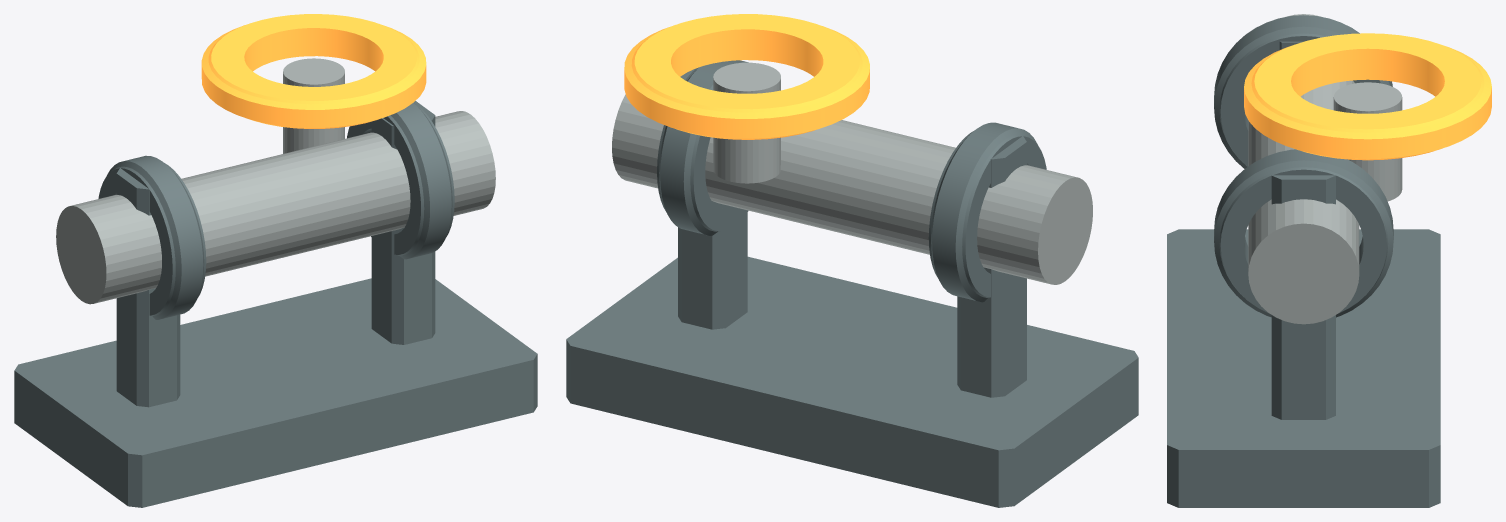
Rendered from refinery-dressing-valve-skid-lod0.glb.
The picture shows the model from 3 angles, left to right: view 1: azimuth 30°, elevation 25°; view 2: azimuth 150°, elevation 25°; view 3: azimuth 270°, elevation 25°; orthographic projection. The views are drawn at different scales.
Visible parts, largest first — view 1: valve-foot, valve-pipe, valve-handwheel, valve-pipe-collar--0.37, valve-support--0.38, valve-pipe-collar-0.37, valve-support-0.38, valve-handwheel-stem; view 2: valve-foot, valve-pipe, valve-handwheel, valve-pipe-collar--0.37, valve-support--0.38, valve-support-0.38, valve-pipe-collar-0.37, valve-handwheel-stem; view 3: valve-foot, valve-handwheel, valve-pipe, valve-pipe-collar-0.37, valve-support-0.38, valve-pipe-collar--0.37, valve-handwheel-stem.
Boxes of the visible parts, x1,y1,x2,y2 form: valve-foot: (14,278,537,507); valve-pipe: (56,111,495,304); valve-handwheel: (201,14,426,128); valve-pipe-collar--0.37: (98,155,206,319); valve-support--0.38: (116,168,180,407); valve-pipe-collar-0.37: (347,103,454,259); valve-support-0.38: (371,101,435,344); valve-handwheel-stem: (283,58,344,153); valve-foot: (566,256,1138,507); valve-pipe: (612,94,1092,284); valve-handwheel: (624,14,869,139); valve-pipe-collar--0.37: (928,122,1046,302); valve-support--0.38: (957,136,1026,397); valve-support-0.38: (678,68,747,329); valve-pipe-collar-0.37: (657,60,748,235); valve-handwheel-stem: (713,62,780,183); valve-foot: (1167,229,1440,507); valve-handwheel: (1244,33,1491,160); valve-pipe: (1248,14,1359,324); valve-pipe-collar-0.37: (1214,149,1393,317); valve-support-0.38: (1271,175,1335,419); valve-pipe-collar--0.37: (1214,15,1392,168); valve-handwheel-stem: (1333,82,1402,201).
Size of the model in its own units: 1.22 by 0.91 by 0.76.
